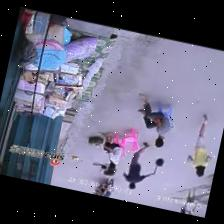person: (138, 93, 170, 147), (187, 114, 210, 175), (123, 142, 153, 188), (98, 132, 120, 168), (93, 163, 115, 175), (185, 189, 195, 214), (180, 205, 186, 213)
